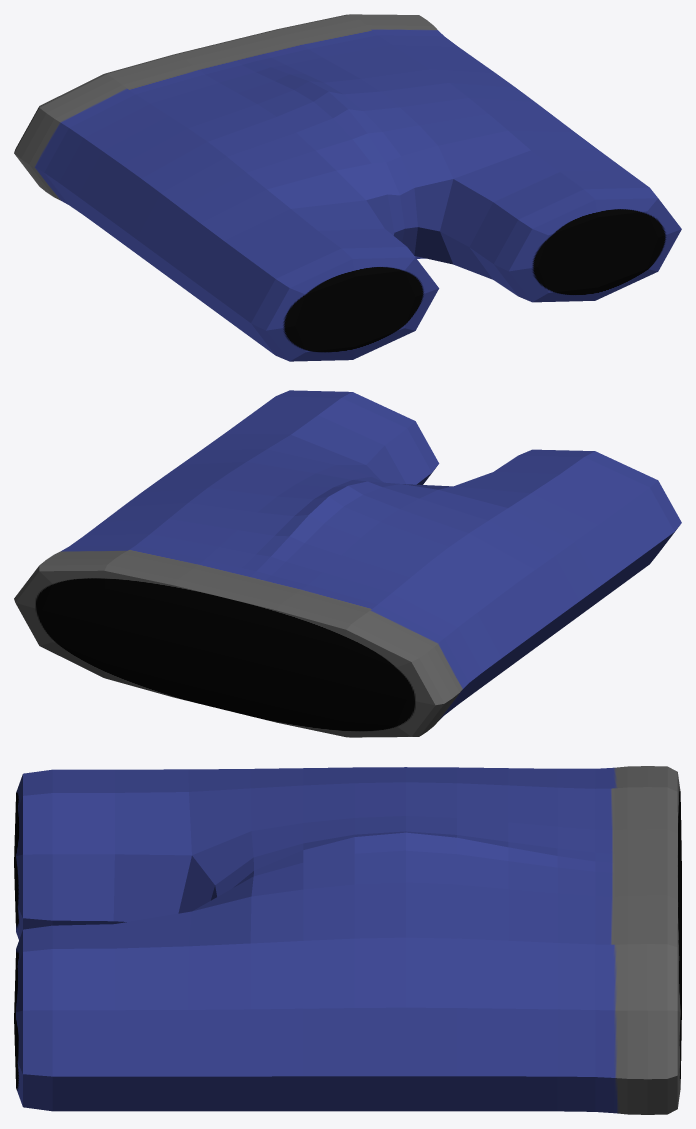
Rendered from underwear.fbx.
3 views of the same model, one above another, from view 1: azimuth 30°, elevation 25°; view 2: azimuth 150°, elevation 25°; view 3: azimuth 270°, elevation 25° (orthographic). The views are drawn at different scales.
Parts seen in each view (by area): view 1: underwear; view 2: underwear; view 3: underwear.
Boxes of the visible parts, x1,y1,x2,y2 form: underwear: (14,14,681,361); underwear: (14,390,681,737); underwear: (14,766,681,1114).
Size of the model in its own units: 39.24 by 12.27 by 39.92.
